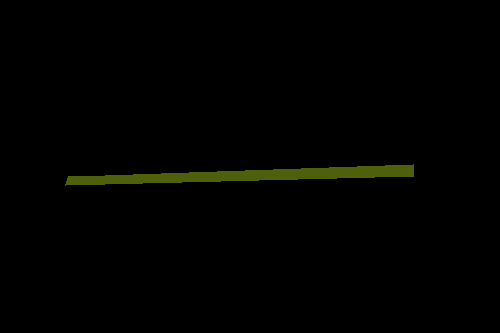Train: (65, 164, 413, 185)
